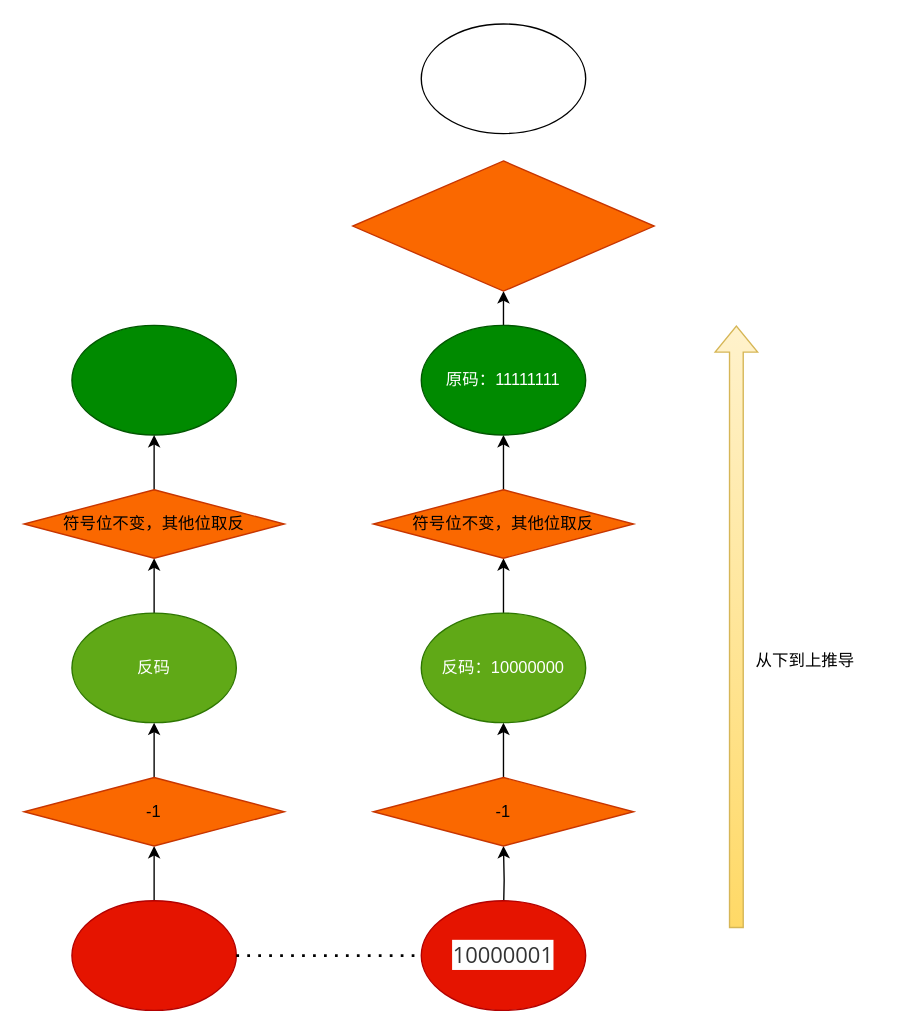
Some shapes in this 897 by 1034 pixel diagram are drawn without their labels. The centre of each missing label's shape, as x and y in pixels:
"1.最高位符号位1：负数 2.其他位1111111（127）位真值的绝对值：" goes at point (502, 225).
"原码" goes at point (153, 379).
"真值：-127" goes at point (503, 78).
"补码" goes at point (153, 954).
